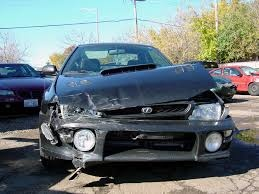Broken-glass: (58, 101, 99, 118)
Dent: (40, 78, 125, 161)
